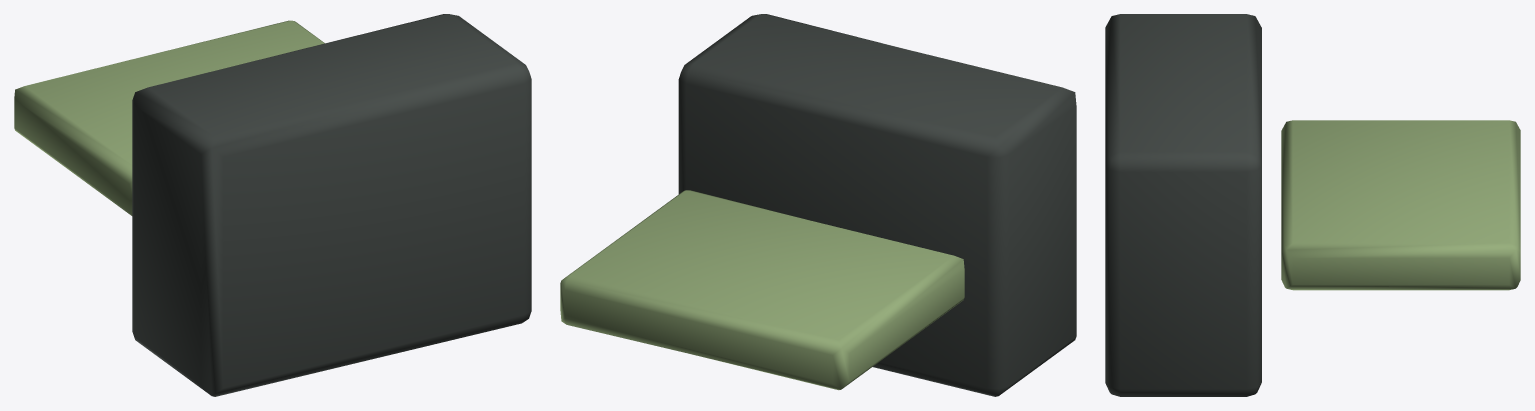
File: equipment_cash_register.glb
The picture shows the model from 3 angles, left to right: view 1: azimuth 30°, elevation 25°; view 2: azimuth 150°, elevation 25°; view 3: azimuth 270°, elevation 25°; orthographic projection. The views are drawn at different scales.
Visible parts, largest first — view 1: Drawer, Screen; view 2: Drawer, Screen; view 3: Drawer, Screen.
Boxes of the visible parts, left/top/right/bottom form: Drawer: left=132, top=14, right=531, bottom=396; Screen: left=14, top=20, right=324, bottom=215; Drawer: left=678, top=14, right=1076, bottom=396; Screen: left=560, top=190, right=964, bottom=390; Drawer: left=1105, top=14, right=1261, bottom=396; Screen: left=1281, top=120, right=1520, bottom=290.
Size of the model in its own units: 0.82 by 0.62 by 0.955.
